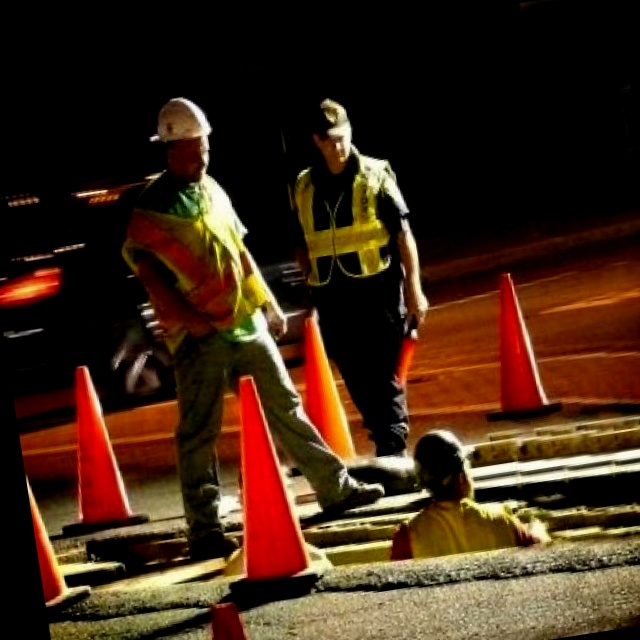Con_Casco: (146, 93, 217, 172)
Con_Chaleco: (115, 176, 255, 344), (290, 159, 404, 291)
